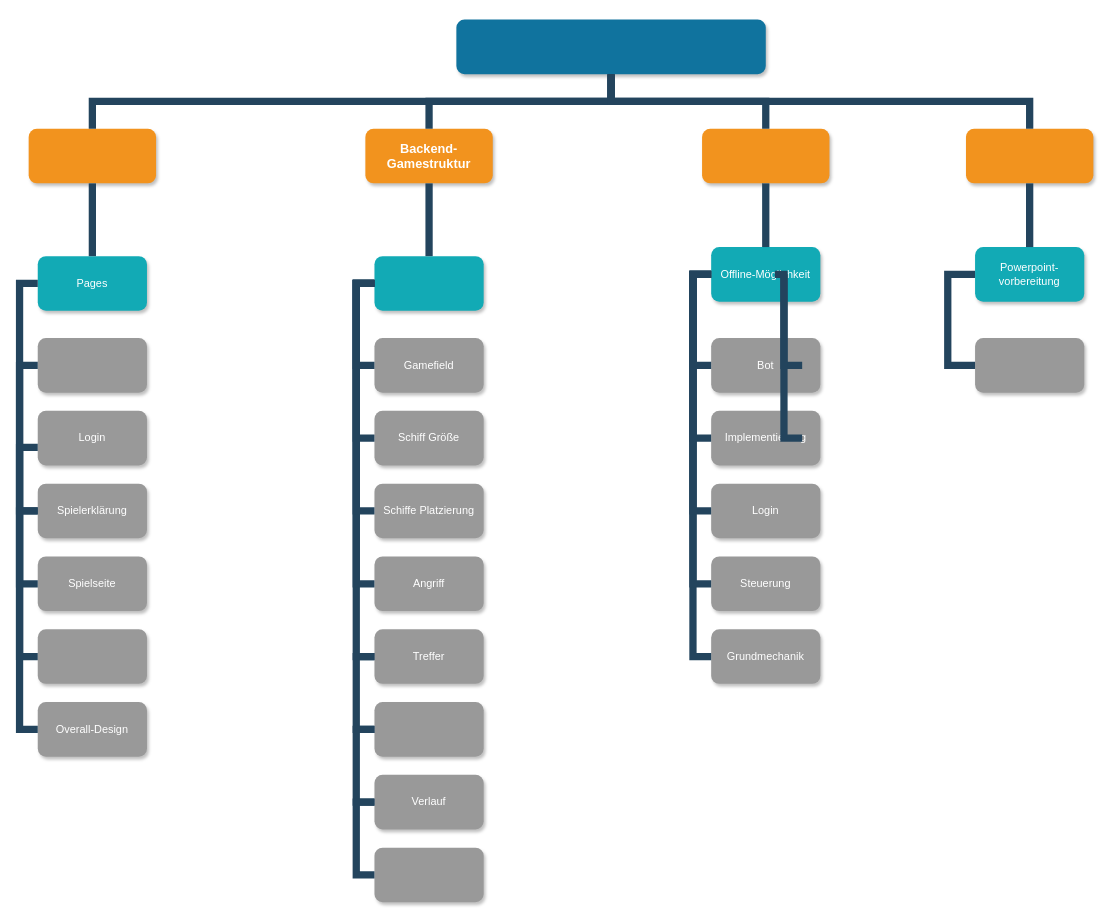
Some shapes in this 1114 by 924 pixel diagram are drawn without their labels. The shapes that lost their labels are listed below. From the top down, each one's centre as x and y in pixels, then its label:
pixel 611 47: BattleShip
pixel 93 157: Fronted
pixel 766 157: Backend
pixel 1030 157: Präsentation
pixel 429 284: Funktionalität
pixel 93 366: Start
pixel 1030 366: Game
pixel 93 657: Schiffe-design
pixel 429 730: Winner
pixel 429 876: Score
